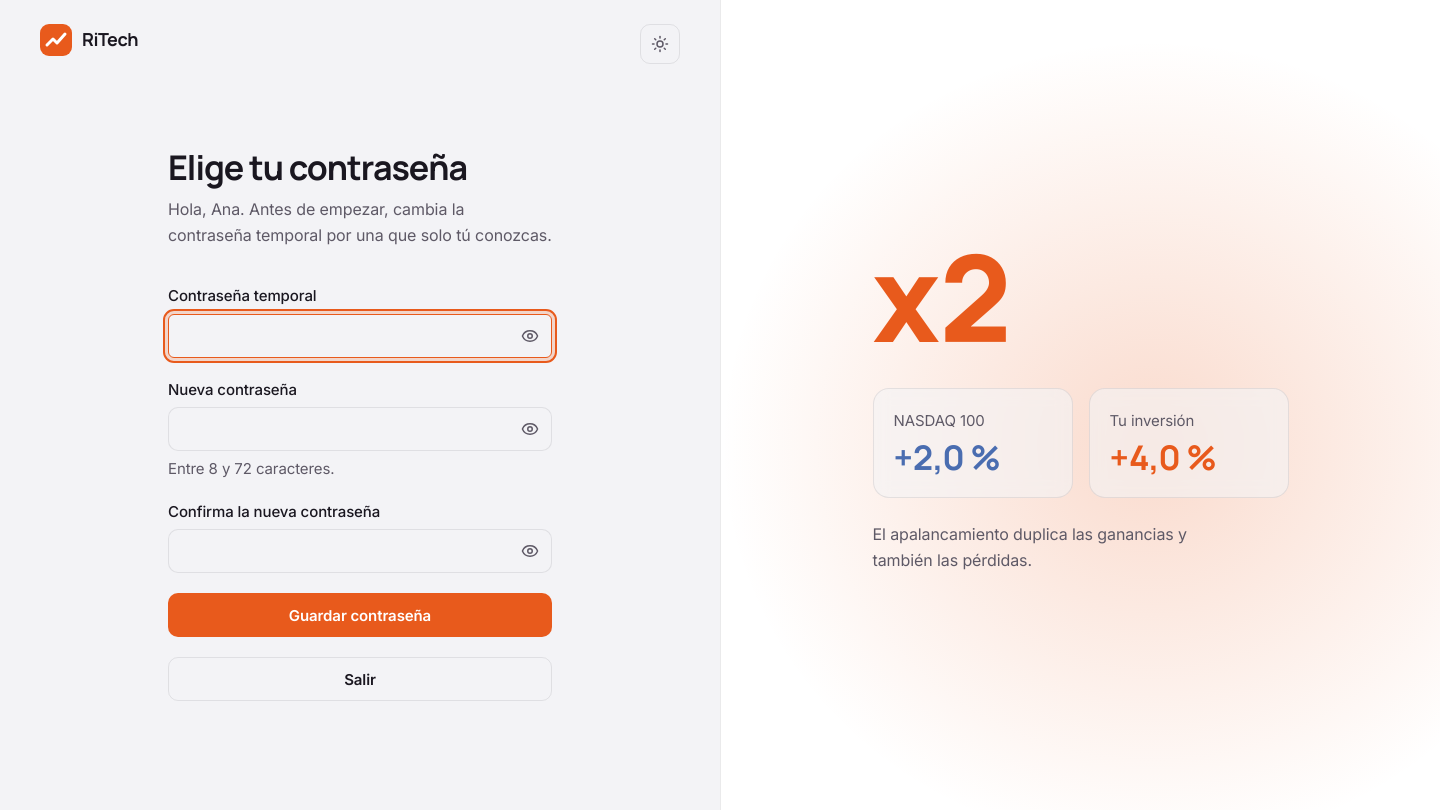
Test: ChangePassword › marca la contraseña actual cuando el backend la rechaza
Type "equivocada" into the password field labelled "Contraseña temporal" at coordinates (360, 336), box [168,314,552,358]
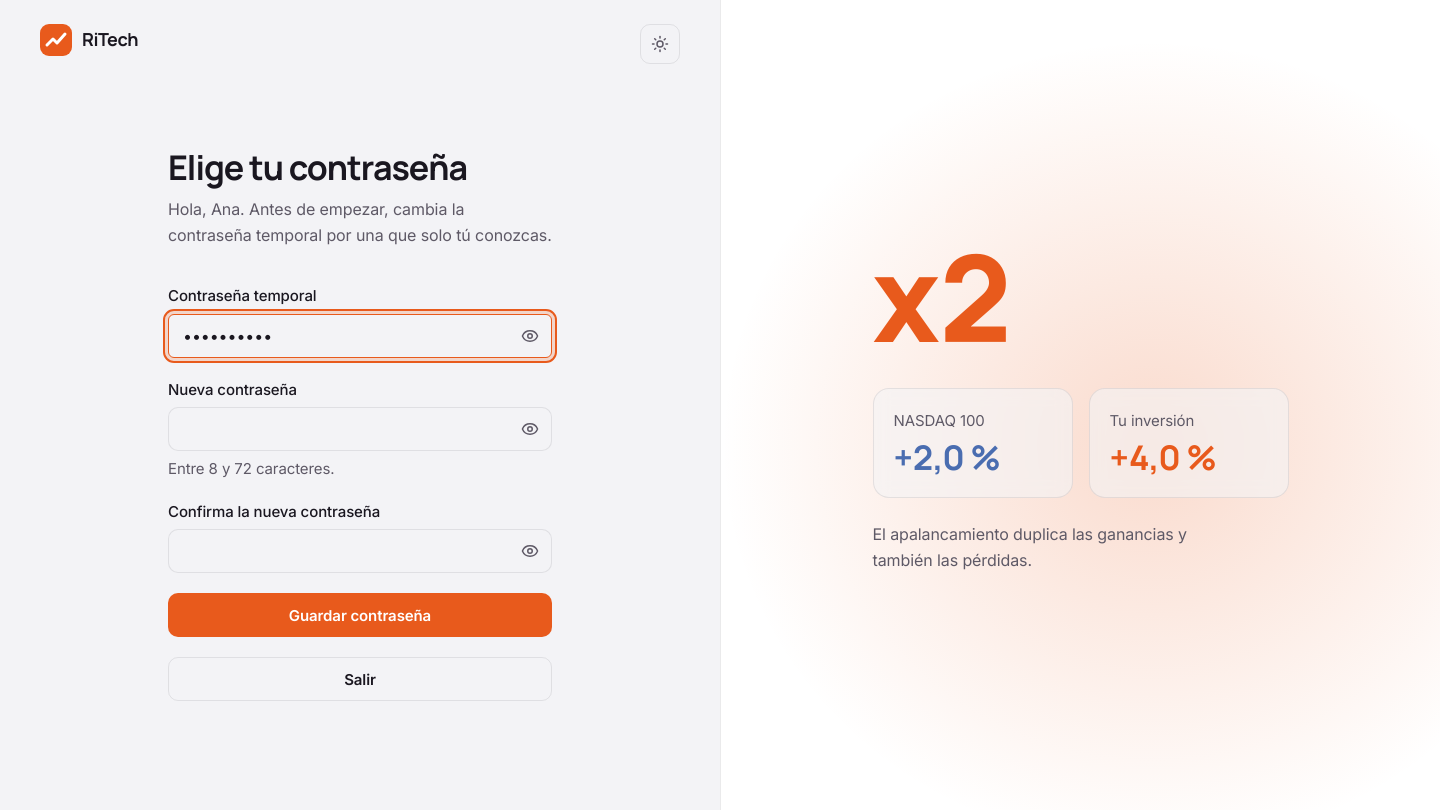
Type "nueva-segura-1" into the password field labelled "Nueva contraseña" at coordinates (360, 429), box [168,407,552,451]
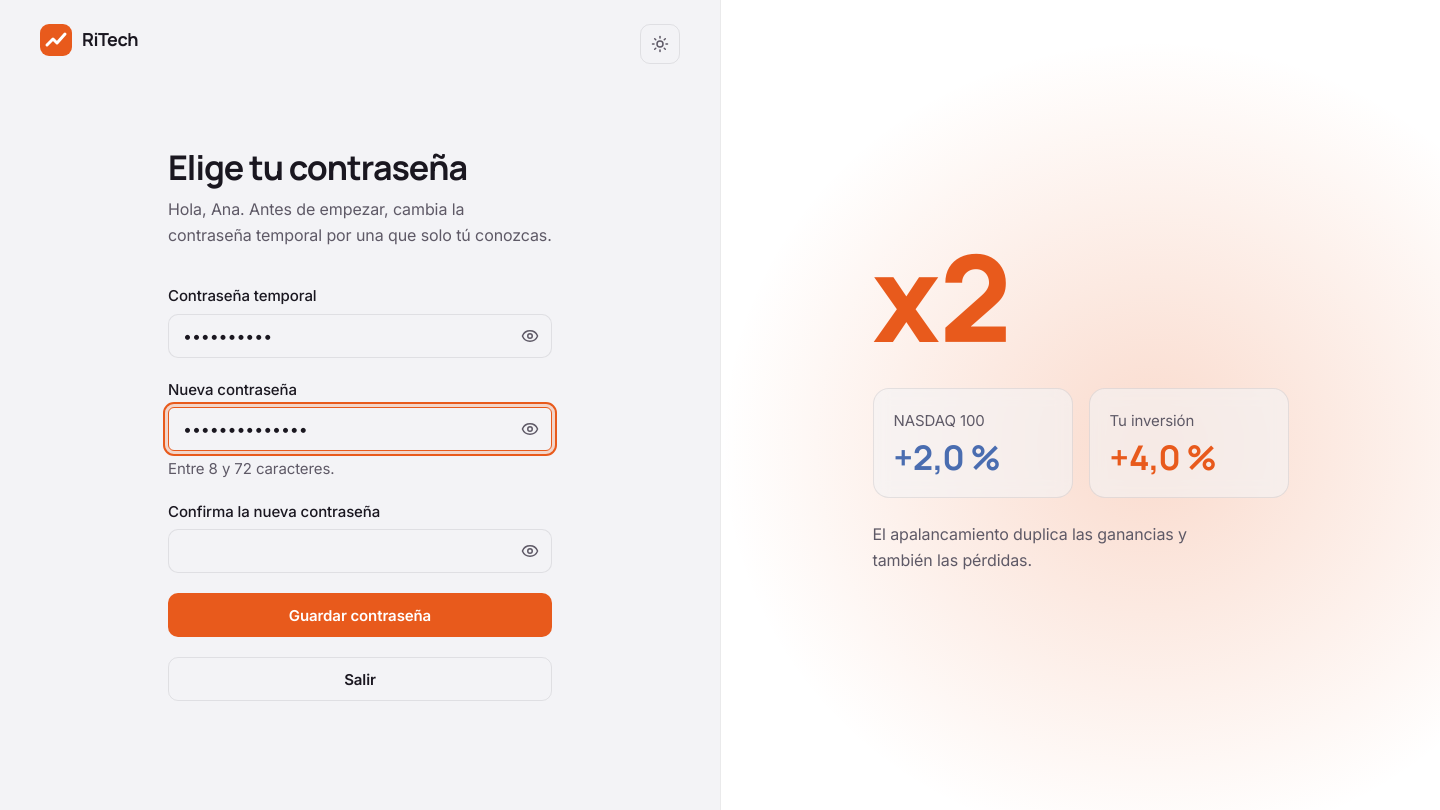
Type "nueva-segura-1" into the password field labelled "Confirma la nueva contraseña" at coordinates (360, 552), box [168,530,552,574]
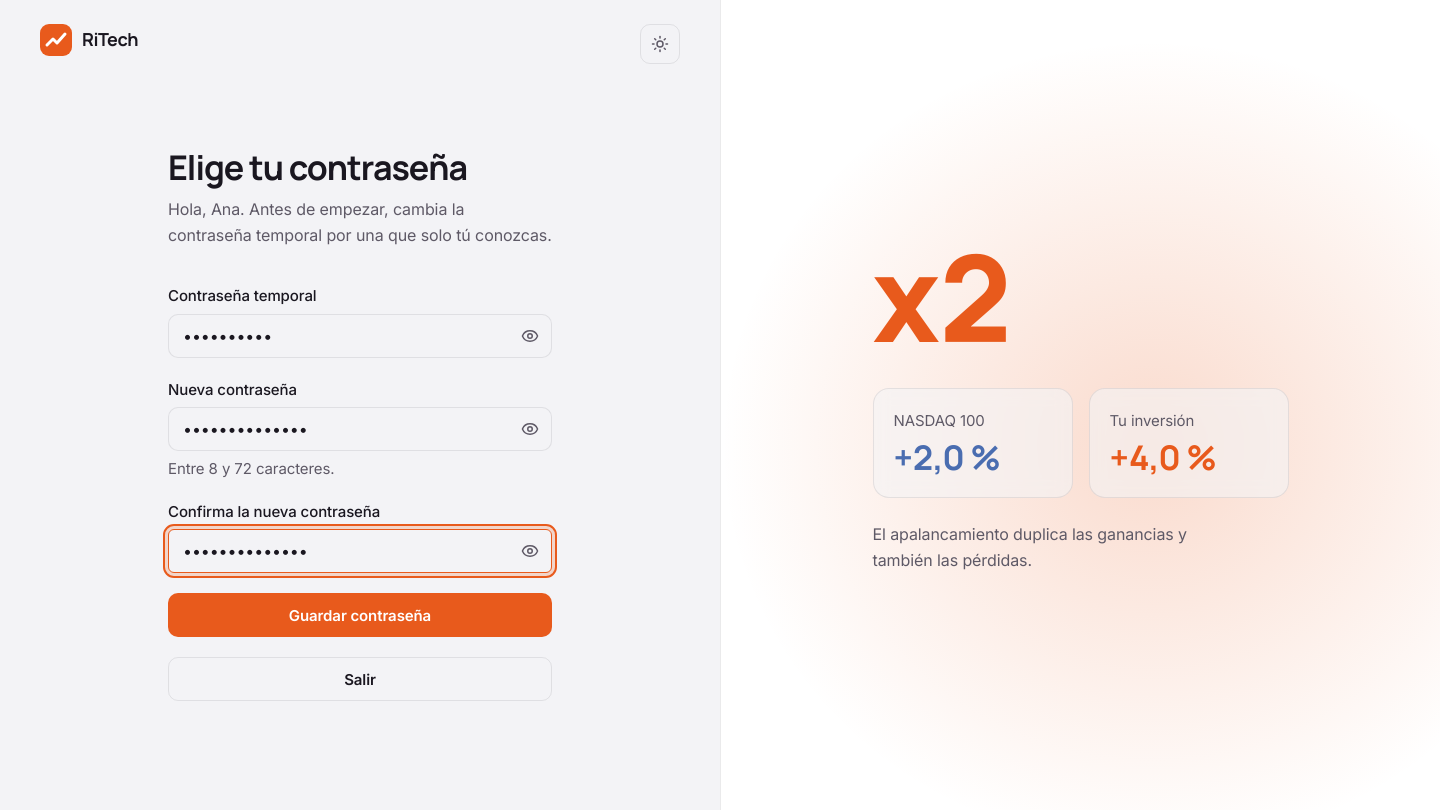
Click the button "Guardar contraseña" at coordinates (360, 616), box [168,594,552,638]
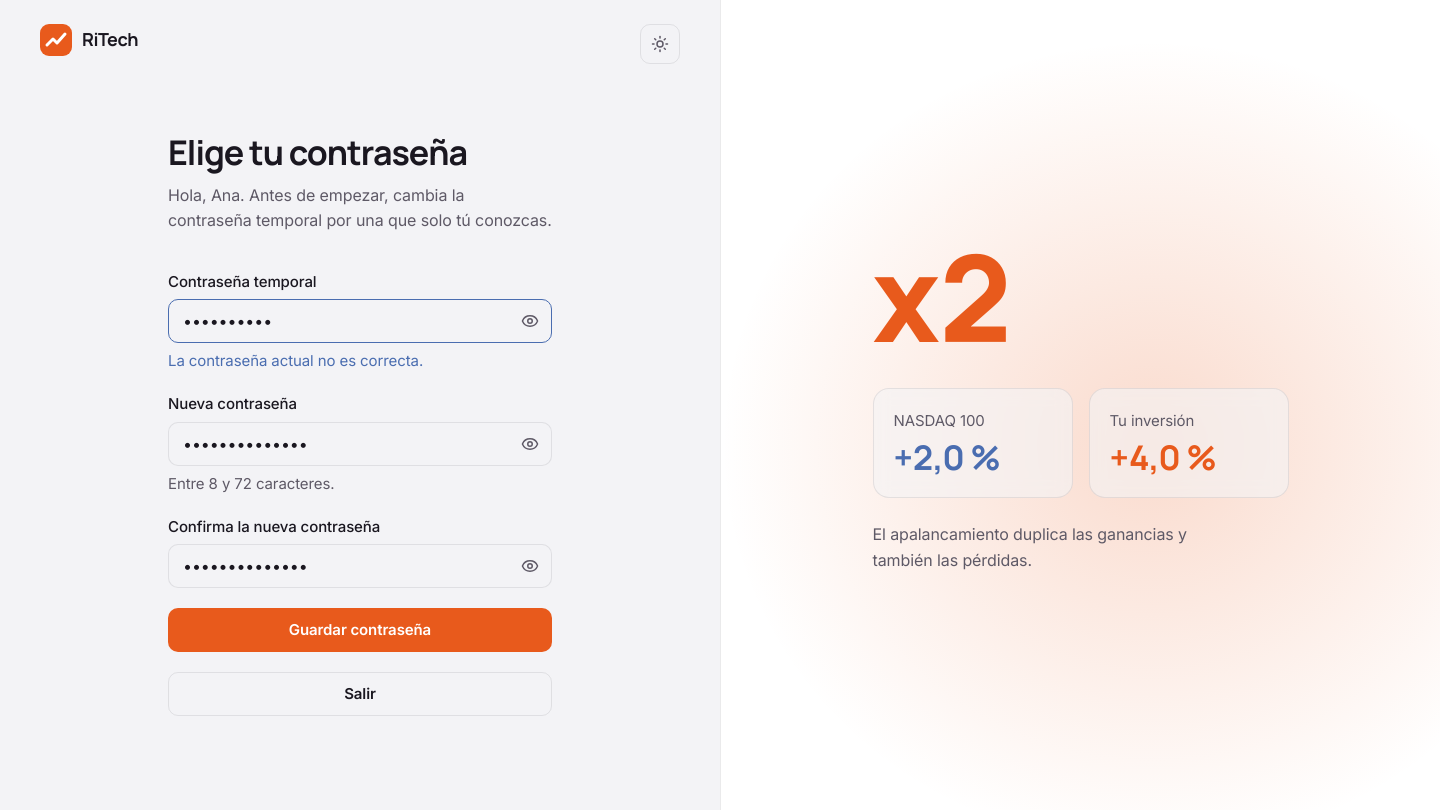
Expected: the text "La contraseña actual no es correcta." is shown, [168,351,423,370]
